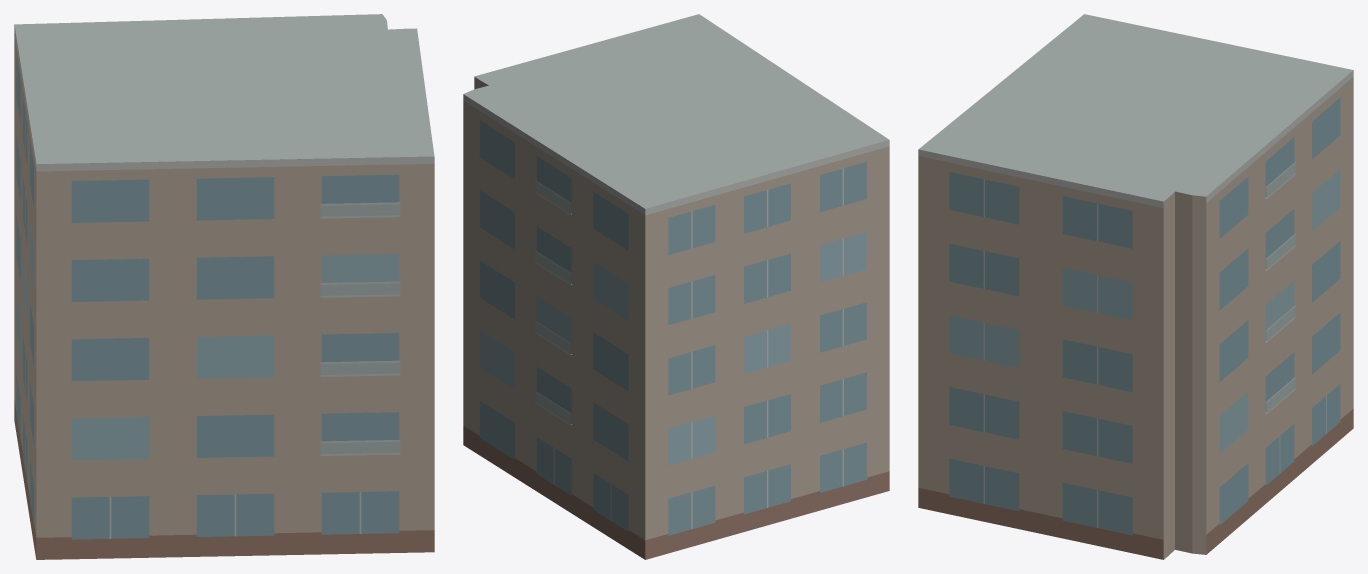
Rendered from survey-upis-32891605.glb.
3 views of the same model, side by side, from view 1: azimuth 30°, elevation 25°; view 2: azimuth 150°, elevation 25°; view 3: azimuth 270°, elevation 25° (orthographic). The views are drawn at different scales.
Parts seen in each view (by area): view 1: survey-upis-32891605.tmp; view 2: survey-upis-32891605.tmp; view 3: survey-upis-32891605.tmp.
Part boxes in pixels (bbox=[...]): survey-upis-32891605.tmp: bbox=[14, 14, 434, 559]; survey-upis-32891605.tmp: bbox=[463, 14, 889, 559]; survey-upis-32891605.tmp: bbox=[918, 14, 1353, 559].
Size of the model in its own units: 14.83 by 13.2 by 14.54.
